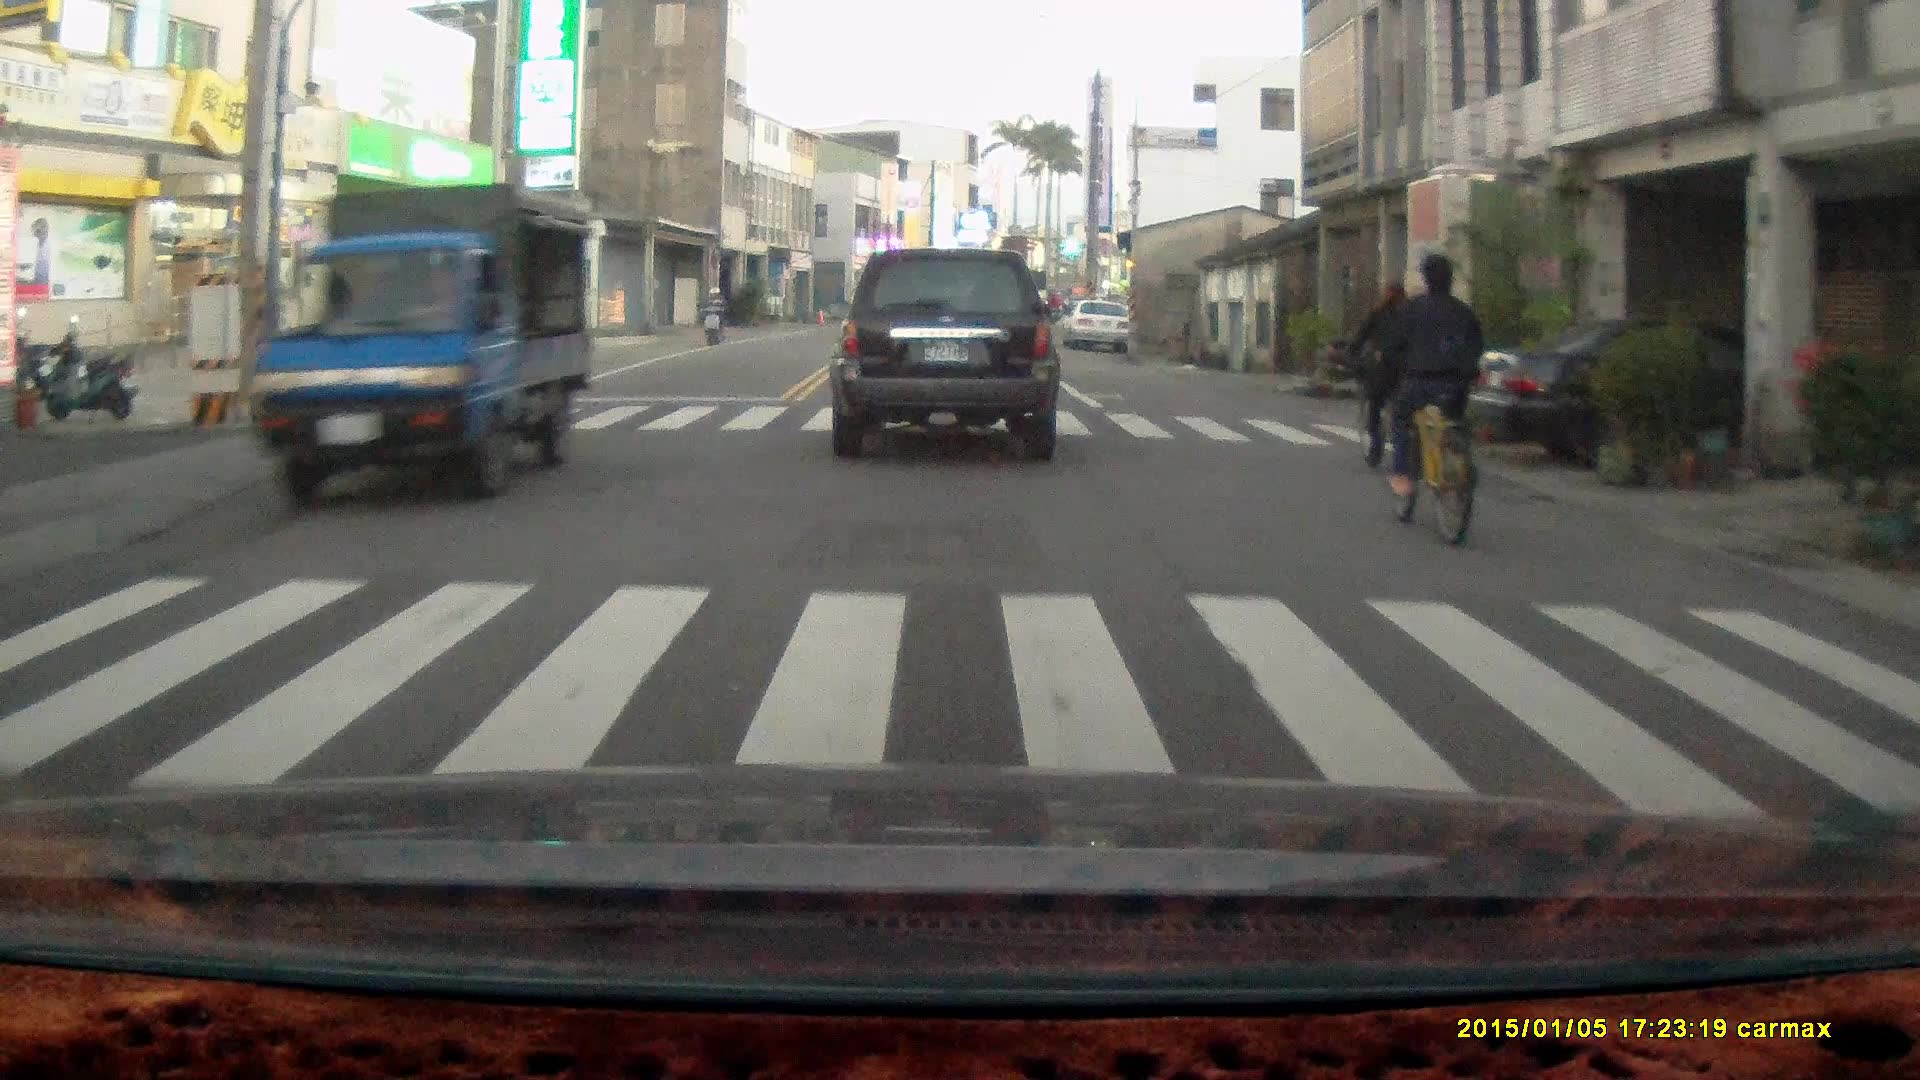rider: (1370, 254, 1482, 551), (1343, 279, 1418, 480), (699, 282, 726, 347)
vehicle: (257, 179, 600, 504), (1462, 315, 1902, 478), (826, 246, 1061, 462), (1059, 303, 1135, 358)
